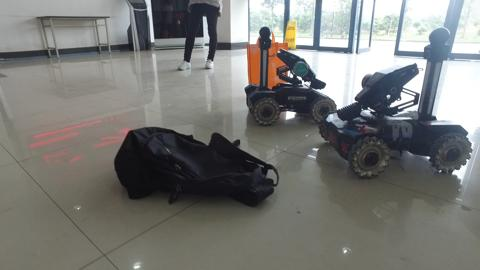bag: (110, 124, 279, 210)
chariot: (322, 30, 477, 178), (245, 26, 331, 125)
